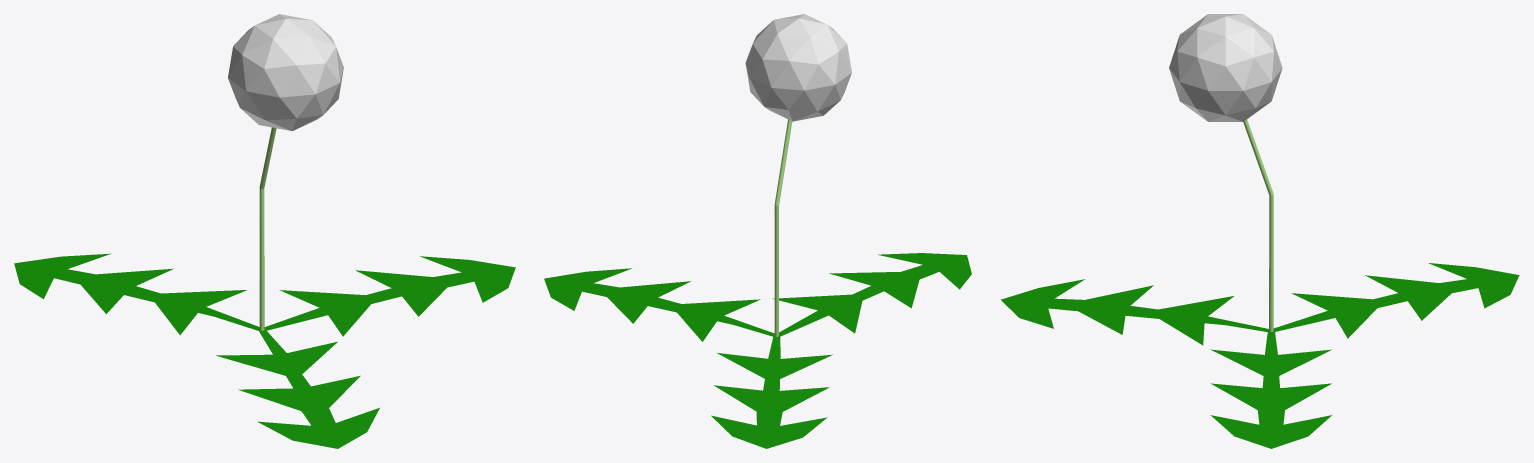
File: dandelion_FINAL.fbx
3 views of the same model, side by side, from view 1: azimuth 30°, elevation 25°; view 2: azimuth 150°, elevation 25°; view 3: azimuth 270°, elevation 25° (orthographic). The views are drawn at different scales.
Parts seen in each view (by area): view 1: dand.complete; view 2: dand.complete; view 3: dand.complete.
Boxes of the visible parts, x1,y1,x2,y2 form: dand.complete: (14, 14, 515, 448); dand.complete: (544, 14, 971, 448); dand.complete: (1001, 14, 1519, 448).
Size of the model in its own units: 22.8 by 18.33 by 27.41.
